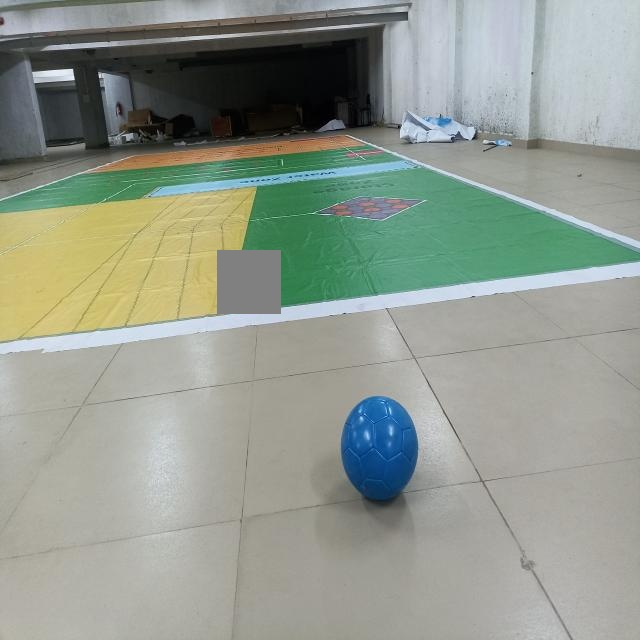blue_ball: (335, 380, 435, 513)
